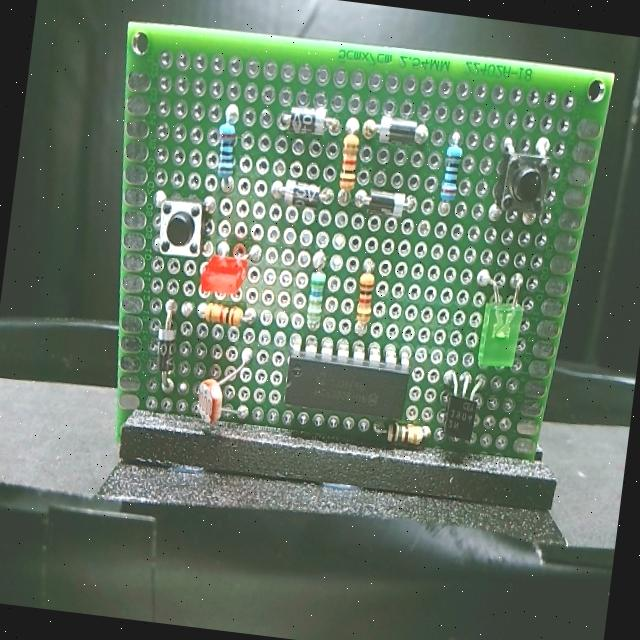IC: (279, 343, 414, 430)
cds: (190, 371, 233, 430)
diode: (277, 92, 334, 138), (268, 177, 326, 217), (139, 326, 177, 382), (373, 112, 425, 150), (366, 178, 409, 218)
led: (468, 292, 530, 374), (195, 252, 253, 300)
resistor: (199, 98, 251, 192), (426, 134, 471, 214), (191, 292, 260, 336), (294, 262, 328, 342), (330, 126, 360, 206), (344, 264, 378, 334), (387, 417, 430, 451)
switch: (482, 139, 558, 229), (148, 191, 214, 264)
transistor: (438, 378, 482, 438)
